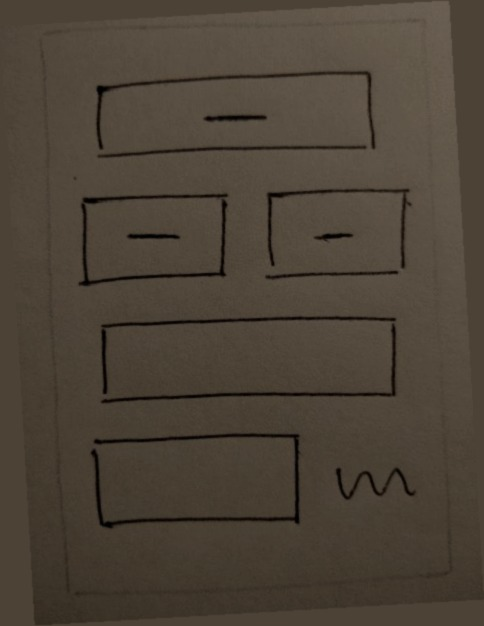button: (83, 53, 386, 175), (254, 171, 421, 292), (67, 178, 241, 294)
text: (327, 452, 436, 520)
text_input: (86, 296, 412, 426), (81, 419, 319, 544)
